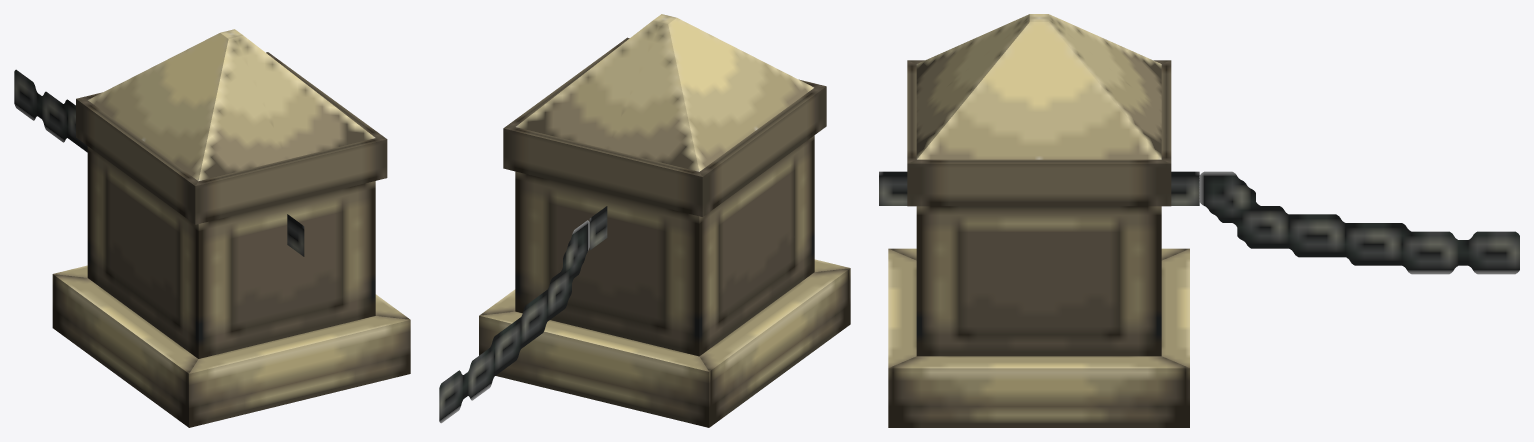
Rendered from Prp_3D_ChainPillar2.fbx.
3 renders of one model, left to right at view 1: azimuth 30°, elevation 25°; view 2: azimuth 150°, elevation 25°; view 3: azimuth 270°, elevation 25°, orthographic. The views are drawn at different scales.
Visible parts, largest first — view 1: ChainPillar1; view 2: ChainPillar1; view 3: ChainPillar1.
Boxes of the visible parts, <box> form: ChainPillar1: <box>14,29,410,427</box>; ChainPillar1: <box>439,14,850,427</box>; ChainPillar1: <box>879,14,1519,427</box>.
Bounding box in the file's own units: 88.24 × 121 × 200.
